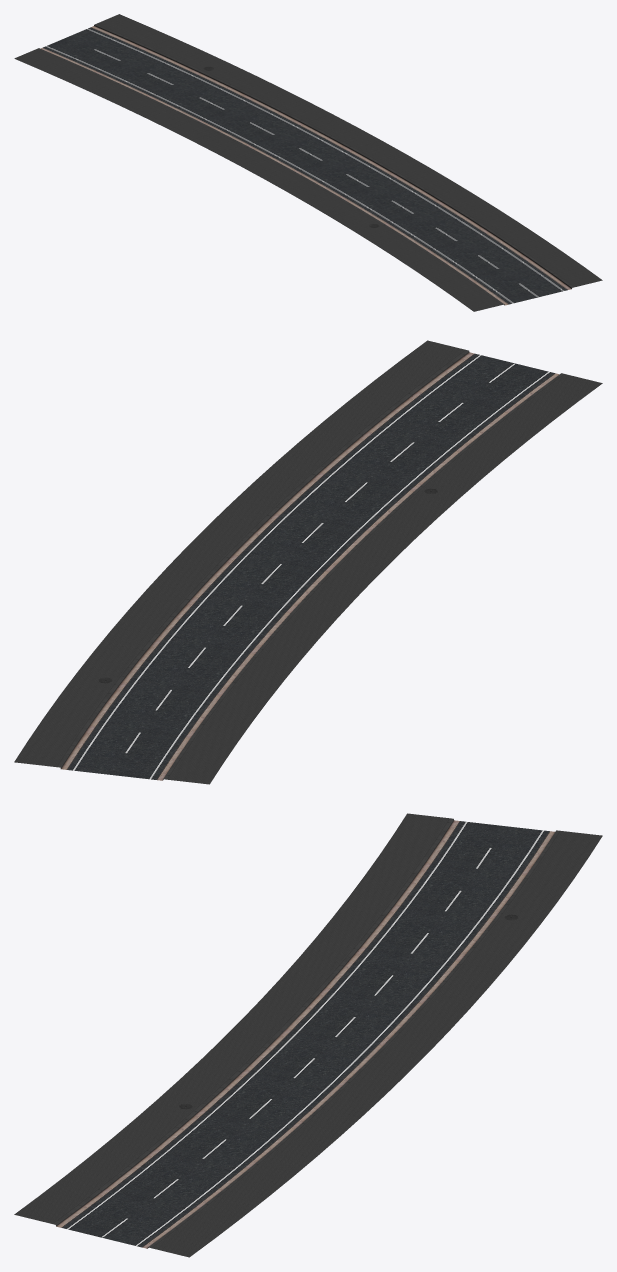
The model's file is or_city_road_15left.fbx.
3 renders of one model, top to bottom at view 1: azimuth 30°, elevation 25°; view 2: azimuth 150°, elevation 25°; view 3: azimuth 330°, elevation 25°, orthographic. The views are drawn at different scales.
Parts seen in each view (by area): view 1: obj0; view 2: obj0; view 3: obj0.
Boxes of the visible parts, left/top/right/bottom form: obj0: left=14, top=14, right=602, bottom=311; obj0: left=14, top=340, right=602, bottom=784; obj0: left=14, top=813, right=602, bottom=1257.
Size of the model in its own units: 48.55 by 0.254 by 154.
